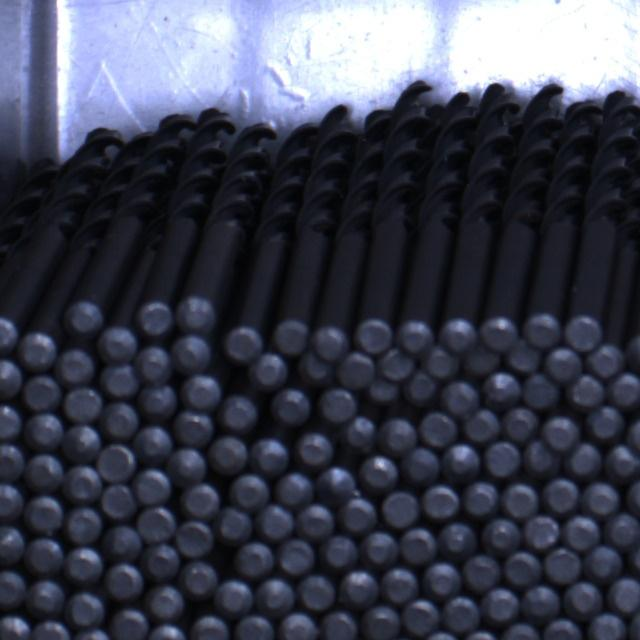tool: (521, 438, 562, 478), (175, 294, 216, 334), (441, 442, 481, 482), (481, 516, 521, 556), (250, 436, 290, 476), (359, 454, 399, 494), (172, 333, 212, 373), (314, 463, 355, 502), (520, 583, 560, 622), (208, 435, 248, 474), (338, 569, 378, 608), (225, 325, 265, 364), (220, 393, 260, 432), (19, 330, 58, 370), (396, 319, 436, 358), (134, 424, 173, 464), (228, 474, 269, 512), (96, 442, 136, 480), (563, 580, 603, 618), (582, 546, 622, 584), (250, 351, 290, 389), (438, 376, 478, 414), (255, 504, 295, 542), (376, 416, 416, 454), (400, 449, 440, 487), (271, 387, 311, 425), (438, 520, 478, 558), (180, 373, 220, 411), (294, 430, 334, 468), (63, 300, 103, 338), (563, 312, 602, 350), (480, 586, 519, 624), (380, 488, 419, 526), (378, 566, 417, 604), (441, 596, 480, 634), (563, 442, 602, 480), (214, 579, 253, 617), (137, 506, 176, 544), (296, 502, 335, 540), (257, 578, 296, 616), (56, 346, 95, 384), (26, 452, 65, 490), (140, 542, 179, 580), (174, 408, 213, 446), (522, 312, 562, 349), (482, 369, 522, 406), (341, 414, 378, 454), (336, 498, 377, 534), (402, 597, 440, 635), (105, 560, 143, 598), (64, 464, 102, 502), (542, 476, 580, 514), (102, 326, 140, 364), (418, 410, 457, 447), (215, 506, 252, 545), (499, 481, 538, 518), (353, 317, 392, 354), (168, 447, 207, 484), (271, 319, 310, 356), (234, 541, 274, 577), (482, 439, 520, 476), (461, 554, 499, 591), (399, 527, 437, 564), (603, 512, 640, 550), (26, 412, 64, 449), (359, 529, 397, 566), (542, 413, 580, 450), (135, 343, 172, 381), (298, 349, 336, 386), (543, 548, 582, 584), (545, 346, 584, 382), (561, 514, 600, 550), (503, 549, 542, 585), (585, 342, 624, 378), (336, 352, 375, 388), (479, 316, 518, 352), (566, 374, 605, 410), (182, 482, 221, 518), (421, 562, 460, 598), (26, 538, 65, 574), (316, 387, 356, 422), (272, 471, 312, 506), (461, 479, 498, 516), (64, 423, 101, 460), (524, 517, 562, 553), (421, 484, 459, 520), (276, 537, 314, 573), (584, 405, 622, 441), (26, 494, 64, 530), (24, 374, 62, 410), (64, 386, 102, 422), (522, 372, 560, 408), (65, 547, 103, 583), (180, 561, 218, 597), (440, 317, 478, 353), (67, 590, 105, 626), (361, 605, 400, 640), (26, 579, 65, 614), (298, 575, 335, 611), (175, 518, 212, 554), (315, 325, 352, 361), (66, 506, 102, 543), (134, 468, 171, 504), (104, 402, 140, 439), (104, 524, 141, 560), (582, 481, 620, 516), (500, 407, 538, 442), (319, 533, 357, 568), (462, 408, 501, 442), (460, 342, 499, 376), (402, 368, 438, 404), (136, 300, 172, 336), (606, 372, 640, 410), (606, 444, 640, 482), (423, 343, 461, 377), (145, 582, 183, 616), (100, 362, 138, 396), (607, 576, 640, 614), (377, 347, 416, 379), (111, 608, 149, 640), (504, 340, 540, 373), (139, 385, 172, 421), (101, 484, 135, 518), (320, 610, 358, 640), (277, 612, 316, 640), (586, 613, 625, 640), (368, 368, 400, 400), (236, 614, 275, 640), (192, 614, 230, 640), (0, 569, 25, 608), (0, 524, 25, 563), (0, 482, 24, 521), (0, 357, 22, 398), (0, 443, 24, 480), (542, 618, 581, 640), (0, 403, 22, 441), (31, 619, 70, 640), (0, 614, 30, 640), (0, 313, 18, 354), (500, 623, 540, 640), (148, 623, 188, 640), (626, 477, 640, 516), (627, 412, 640, 450), (71, 628, 109, 640), (627, 608, 640, 639), (462, 629, 498, 640), (421, 631, 459, 640)
